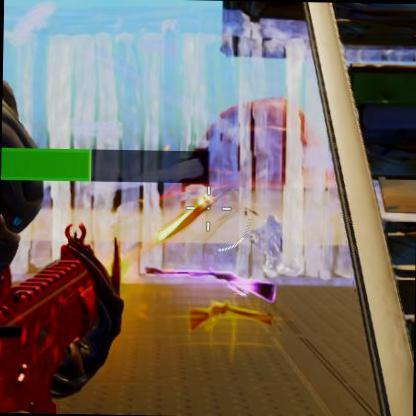person: (260, 210, 285, 271)
